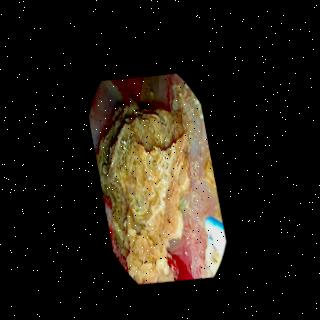fiber: (204, 211, 223, 247)
stone: (96, 77, 198, 277), (202, 151, 216, 190), (139, 74, 152, 105)
